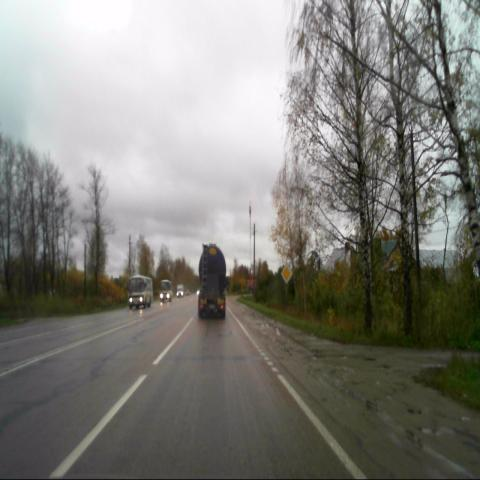2_1: (281, 263, 293, 284)
